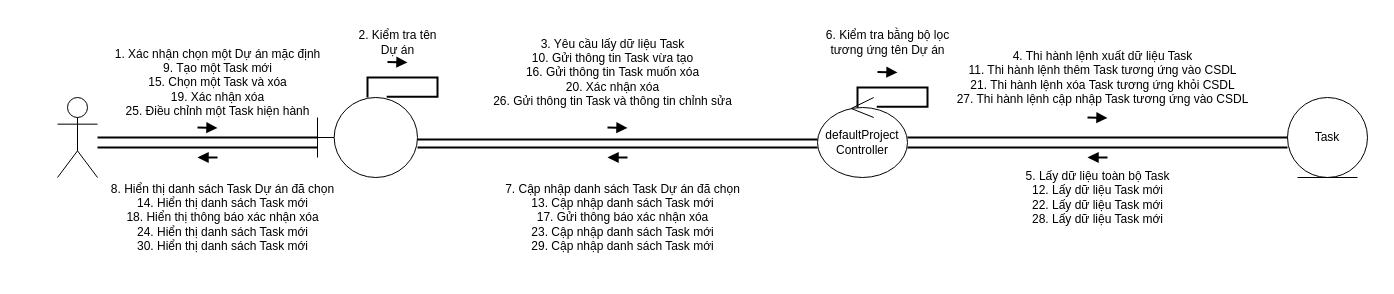
Image size: 1394x294. Some labels were removed from this diagram. Here are the shapes that lost their labels. From the top down, the centre of each, then its label:
At [77,137]: "User".
At [367,137]: "DefaultProject: View".
